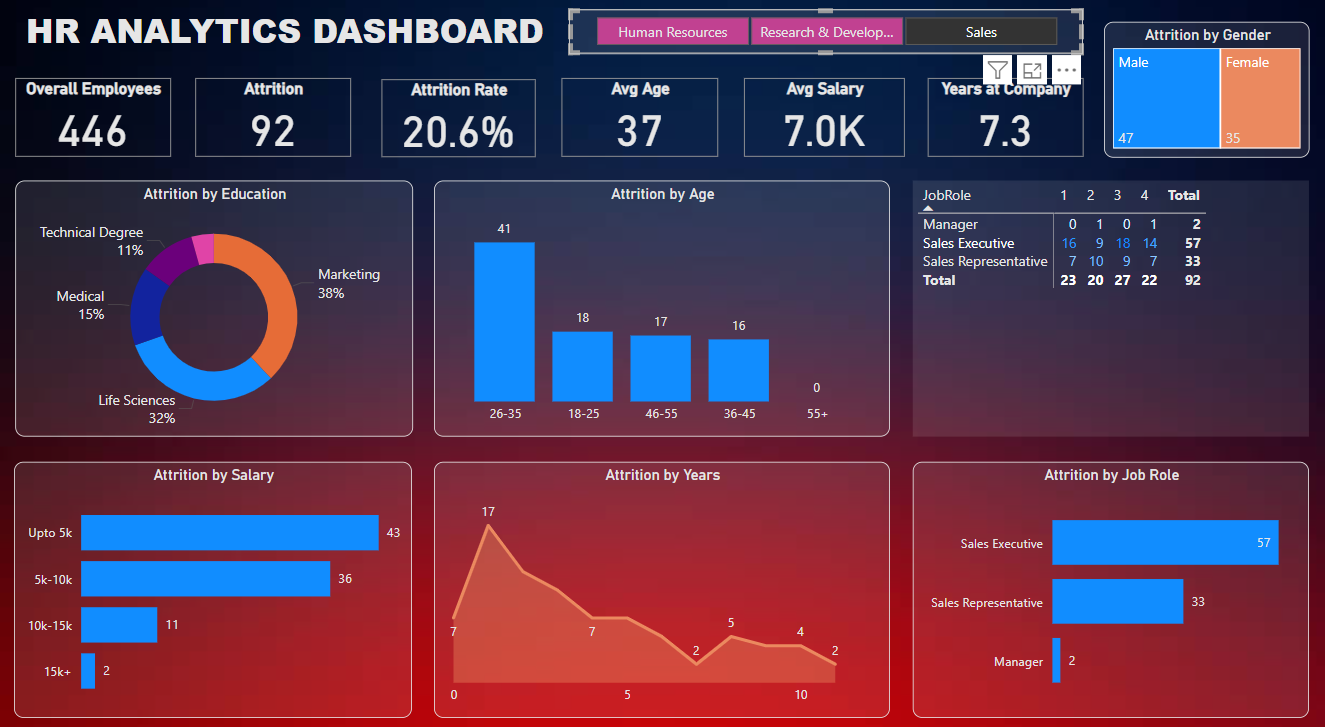

Layout of this report page (visuals, bound fields, positions):
{"tool":"powerbi","page":{"name":"Page 1","canvas":[1280,720],"ordinal":0},"visuals":[{"type":"card","title":"Overall Employees","fields":{"Values":["CountNonNull(HR_Analytics.EmpID)"]},"box":[16.2,82.5,150,76.2],"z":0},{"type":"card","title":"Attrition","fields":{"Values":["Sum(HR_Analytics.attretion count)"]},"box":[190,82.5,150,76.2],"z":1000},{"type":"card","title":"Avg Age","fields":{"Values":["Avg(HR_Analytics.Age)"]},"box":[542.5,82.5,151.2,76.2],"z":2000},{"type":"card","title":"Attrition Rate","fields":{"Values":["HR_Analytics.attretion rate"]},"box":[368.8,83.8,148.8,75],"z":3000},{"type":"card","title":"Avg Salary","fields":{"Values":["Avg(HR_Analytics.MonthlyIncome)"]},"box":[718.8,82.5,155,76.2],"z":4000},{"type":"card","title":"Years at Company","fields":{"Values":["Avg(HR_Analytics.YearsAtCompany)"]},"box":[896.2,82.5,150,76.2],"z":5000},{"type":"donutChart","title":"Attrition by Education","fields":{"Category":["HR_Analytics.EducationField"],"Y":["Sum(HR_Analytics.attretion count)"]},"box":[16.2,181.2,383.8,247.5],"z":6000},{"type":"columnChart","title":"Attrition by Age","fields":{"Category":["HR_Analytics.AgeGroup"],"Y":["Sum(HR_Analytics.attretion count)"]},"box":[420,181.2,440,247.5],"z":7000},{"type":"pivotTable","fields":{"Rows":["HR_Analytics.JobRole"],"Columns":["HR_Analytics.JobSatisfaction"],"Values":["Sum(HR_Analytics.attretion count)"]},"box":[882.5,181.2,382.5,247.5],"z":8000},{"type":"barChart","title":"Attrition by Salary","fields":{"Y":["Sum(HR_Analytics.attretion count)"],"Category":["HR_Analytics.SalarySlab"]},"box":[15,452.5,383.8,247.5],"z":9000},{"type":"barChart","title":"Attrition by Job Role","fields":{"Y":["Sum(HR_Analytics.attretion count)"],"Category":["HR_Analytics.JobRole"]},"box":[882.5,452.5,382.5,247.5],"z":10000},{"type":"areaChart","title":"Attrition by Years","fields":{"Category":["HR_Analytics.YearsAtCompany"],"Y":["Sum(HR_Analytics.attretion count)"]},"box":[420,452.5,440,247.5],"z":11000},{"type":"treemap","title":"Attrition by Gender","fields":{"Group":["HR_Analytics.Gender"],"Values":["Sum(HR_Analytics.attretion count)"]},"box":[1066.2,27.5,198.8,131.2],"z":12000},{"type":"slicer","fields":{"Values":["HR_Analytics.Department"]},"box":[550,16.2,496.2,42.5],"z":13000},{"type":"textbox","box":[16.9,8.4,518.1,59],"z":14000}]}

Visuals, with their boxes in screenshot pixels (x1, y1, x2, y2), scaled from the page's 1280x720 canvas onto the 1325x727 screenshot:
"Overall Employees" card: crop(17, 83, 172, 160)
"Attrition" card: crop(197, 83, 352, 160)
"Avg Age" card: crop(562, 83, 718, 160)
"Attrition Rate" card: crop(382, 85, 536, 160)
"Avg Salary" card: crop(744, 83, 905, 160)
"Years at Company" card: crop(928, 83, 1083, 160)
"Attrition by Education" donutChart: crop(17, 183, 414, 433)
"Attrition by Age" columnChart: crop(435, 183, 890, 433)
pivotTable - HR_Analytics.JobRole x HR_Analytics.JobSatisfaction: crop(914, 183, 1309, 433)
"Attrition by Salary" barChart: crop(16, 457, 413, 707)
"Attrition by Job Role" barChart: crop(914, 457, 1309, 707)
"Attrition by Years" areaChart: crop(435, 457, 890, 707)
"Attrition by Gender" treemap: crop(1104, 28, 1309, 160)
slicer - HR_Analytics.Department: crop(569, 16, 1083, 59)
textbox: crop(17, 8, 554, 68)
